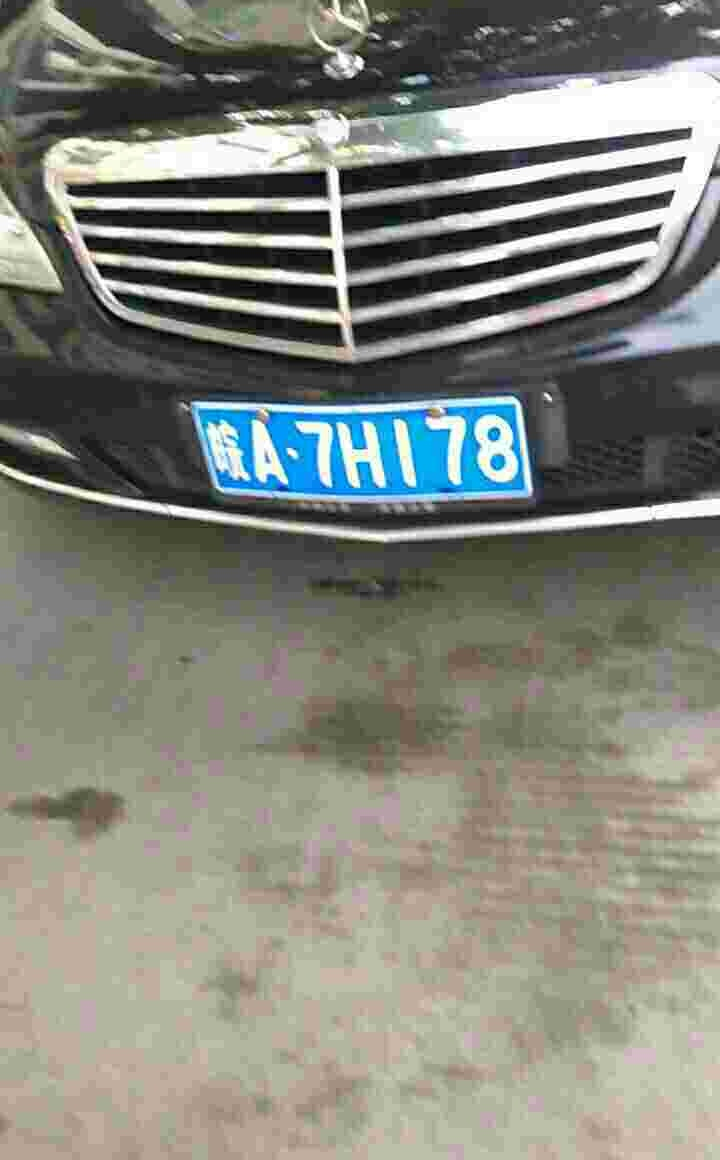car: (198, 391, 541, 499)
